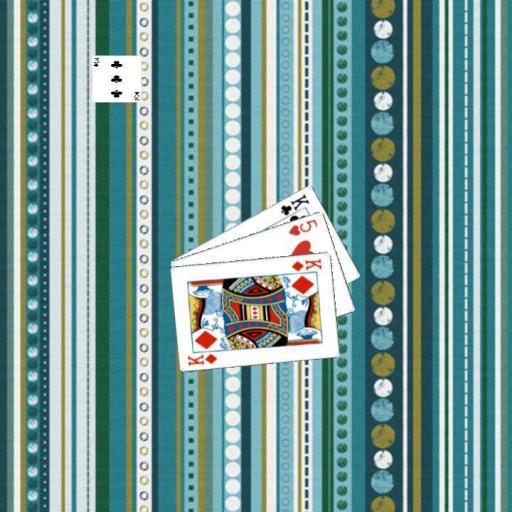card-corner: (278, 190, 311, 222), (285, 216, 319, 237), (185, 350, 219, 367), (288, 256, 324, 272)
